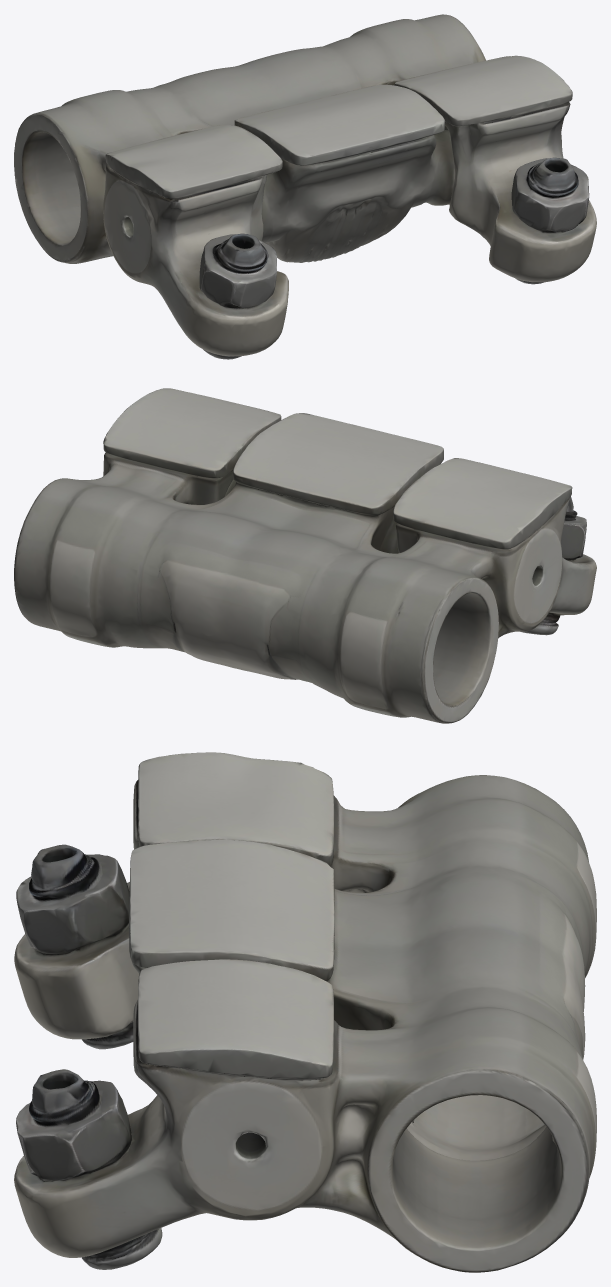
Rendered from B16 Rocker arm IMG.glb.
3 renders of one model, top to bottom at view 1: azimuth 30°, elevation 25°; view 2: azimuth 150°, elevation 25°; view 3: azimuth 270°, elevation 25°, orthographic. The views are drawn at different scales.
Parts seen in each view (by area): view 1: tripo_node_f341fd55-5799-4add-b6cd-ca0889ea0bef; view 2: tripo_node_f341fd55-5799-4add-b6cd-ca0889ea0bef; view 3: tripo_node_f341fd55-5799-4add-b6cd-ca0889ea0bef.
Boxes of the visible parts, x1,y1,x2,y2 form: tripo_node_f341fd55-5799-4add-b6cd-ca0889ea0bef: (14, 14, 596, 359); tripo_node_f341fd55-5799-4add-b6cd-ca0889ea0bef: (14, 388, 596, 723); tripo_node_f341fd55-5799-4add-b6cd-ca0889ea0bef: (14, 752, 596, 1272).
Size of the model in its own units: 0.9999 by 0.4028 by 0.8269.
Materials: 1 (1 with a texture image).
